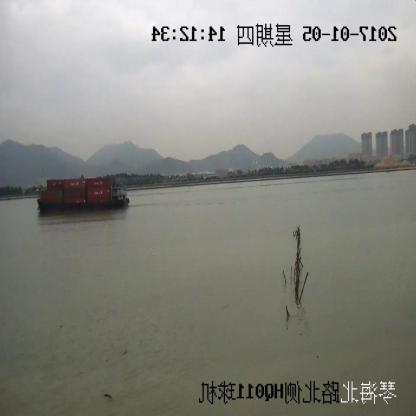Container Ship: (37, 174, 129, 212)
